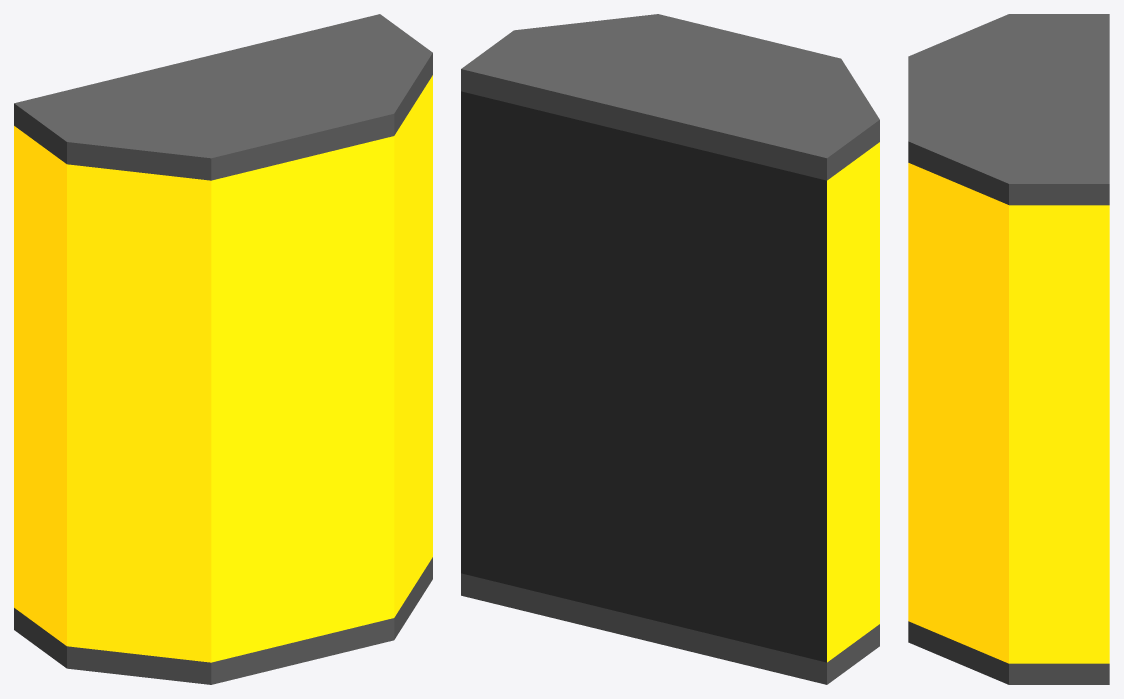
Rendered from SpecimenTankOhneRack.fbx.
The picture shows the model from 3 angles, left to right: view 1: azimuth 30°, elevation 25°; view 2: azimuth 150°, elevation 25°; view 3: azimuth 270°, elevation 25°; orthographic projection. The views are drawn at different scales.
Parts seen in each view (by area): view 1: SpecimenTankOhneRack; view 2: SpecimenTankOhneRack; view 3: SpecimenTankOhneRack.
Part boxes in pixels (box(x1,y1,x2,y2)): SpecimenTankOhneRack: box(14, 14, 432, 684); SpecimenTankOhneRack: box(461, 14, 879, 684); SpecimenTankOhneRack: box(908, 14, 1109, 684).
Bounding box in the file's own units: 200 × 275 × 100.
